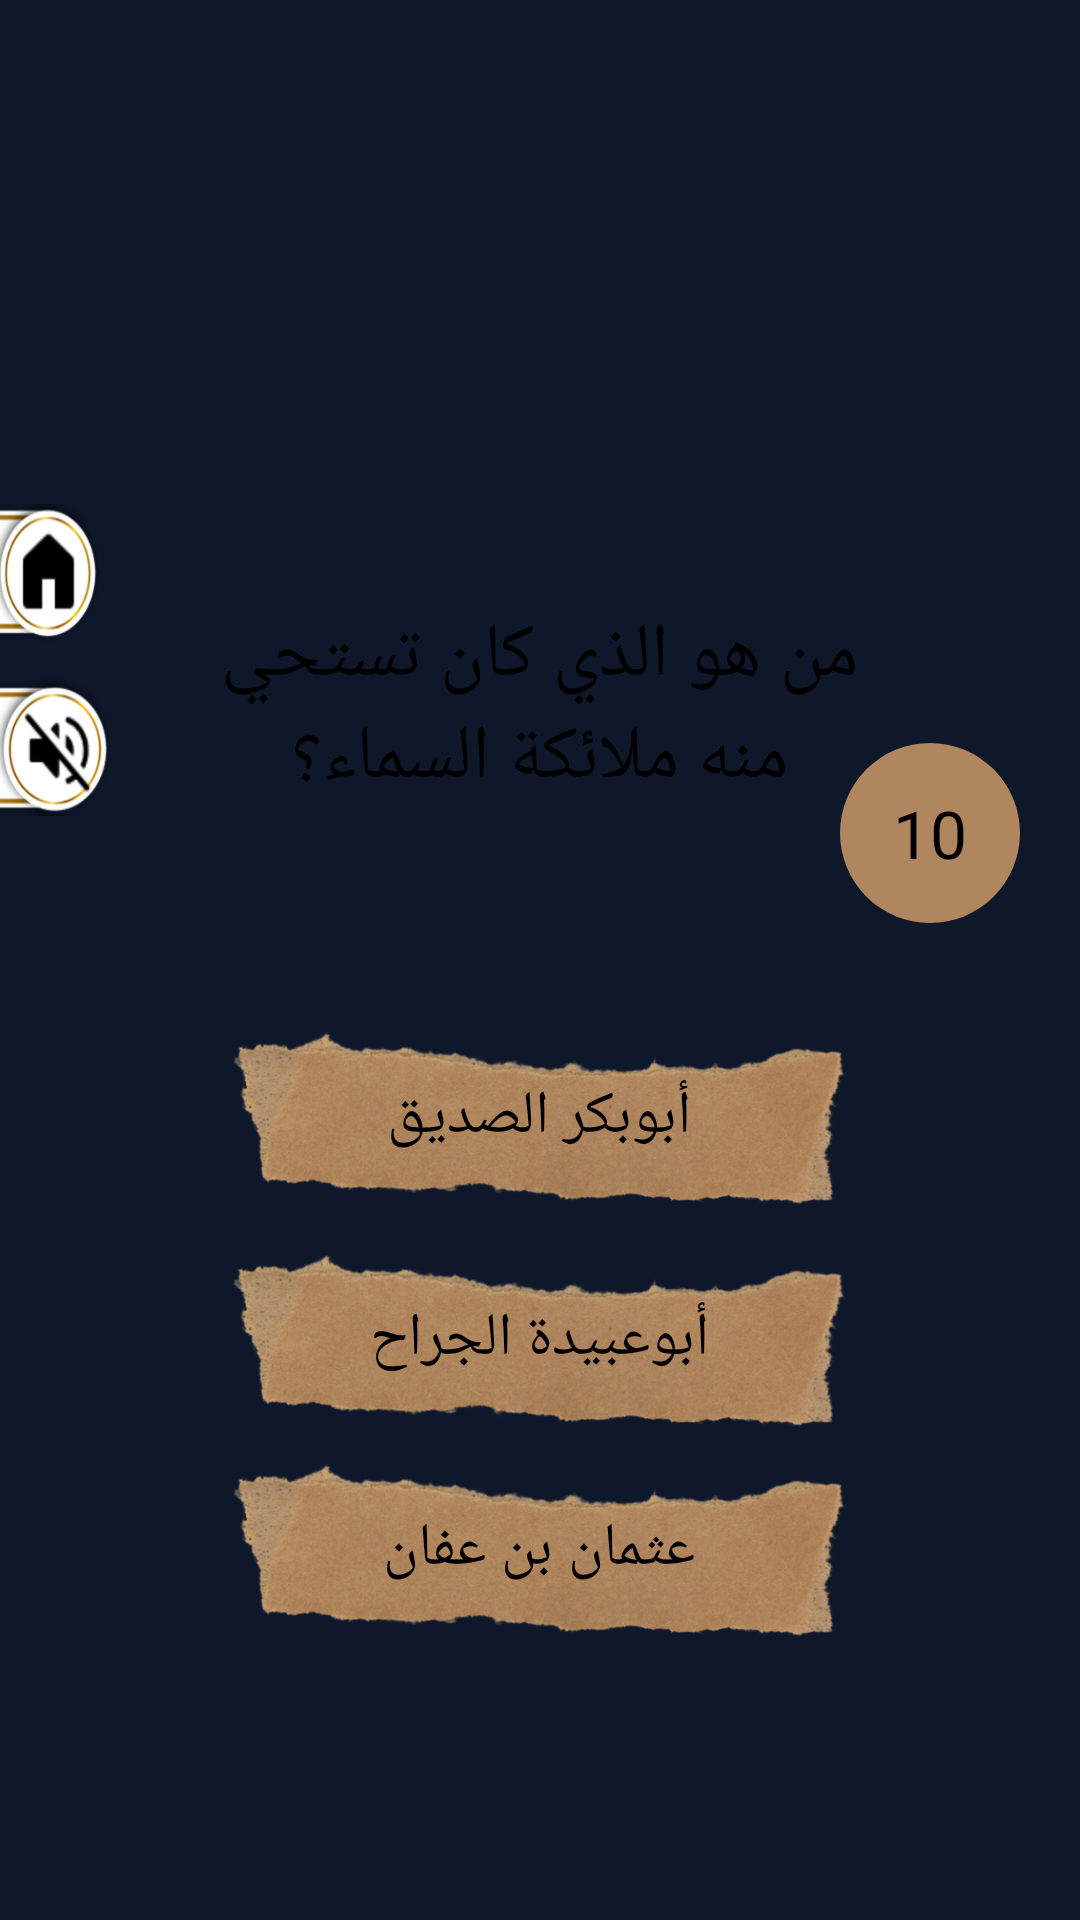

Named icons in this screenshot (1080w x 1920h) and their bounding boxes, (x1, y1, x2, y2):
home: (0, 510, 96, 637)
mutepng: (0, 687, 107, 811)
